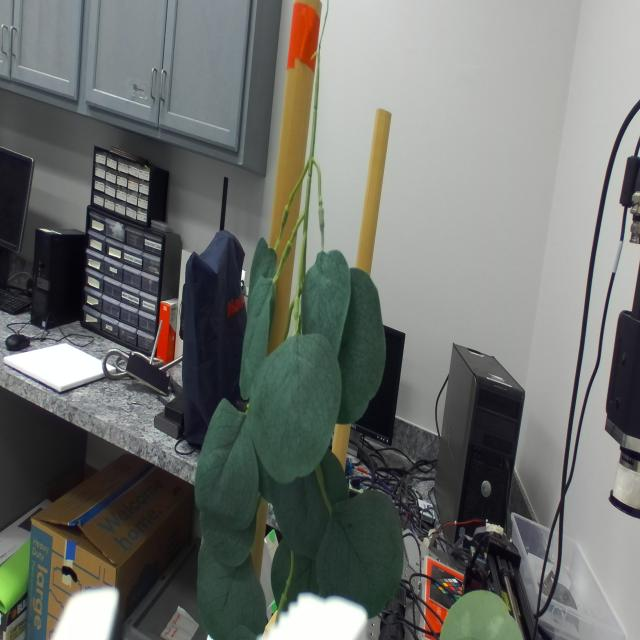Fruit-Stem-Detection: (272, 157, 309, 250), (272, 213, 304, 284), (310, 68, 319, 156), (317, 166, 325, 251)
